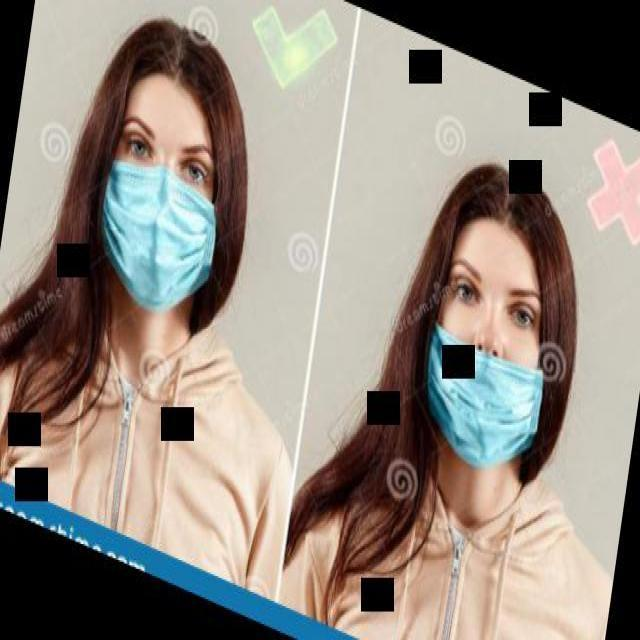hairnet: (434, 321, 545, 460)
